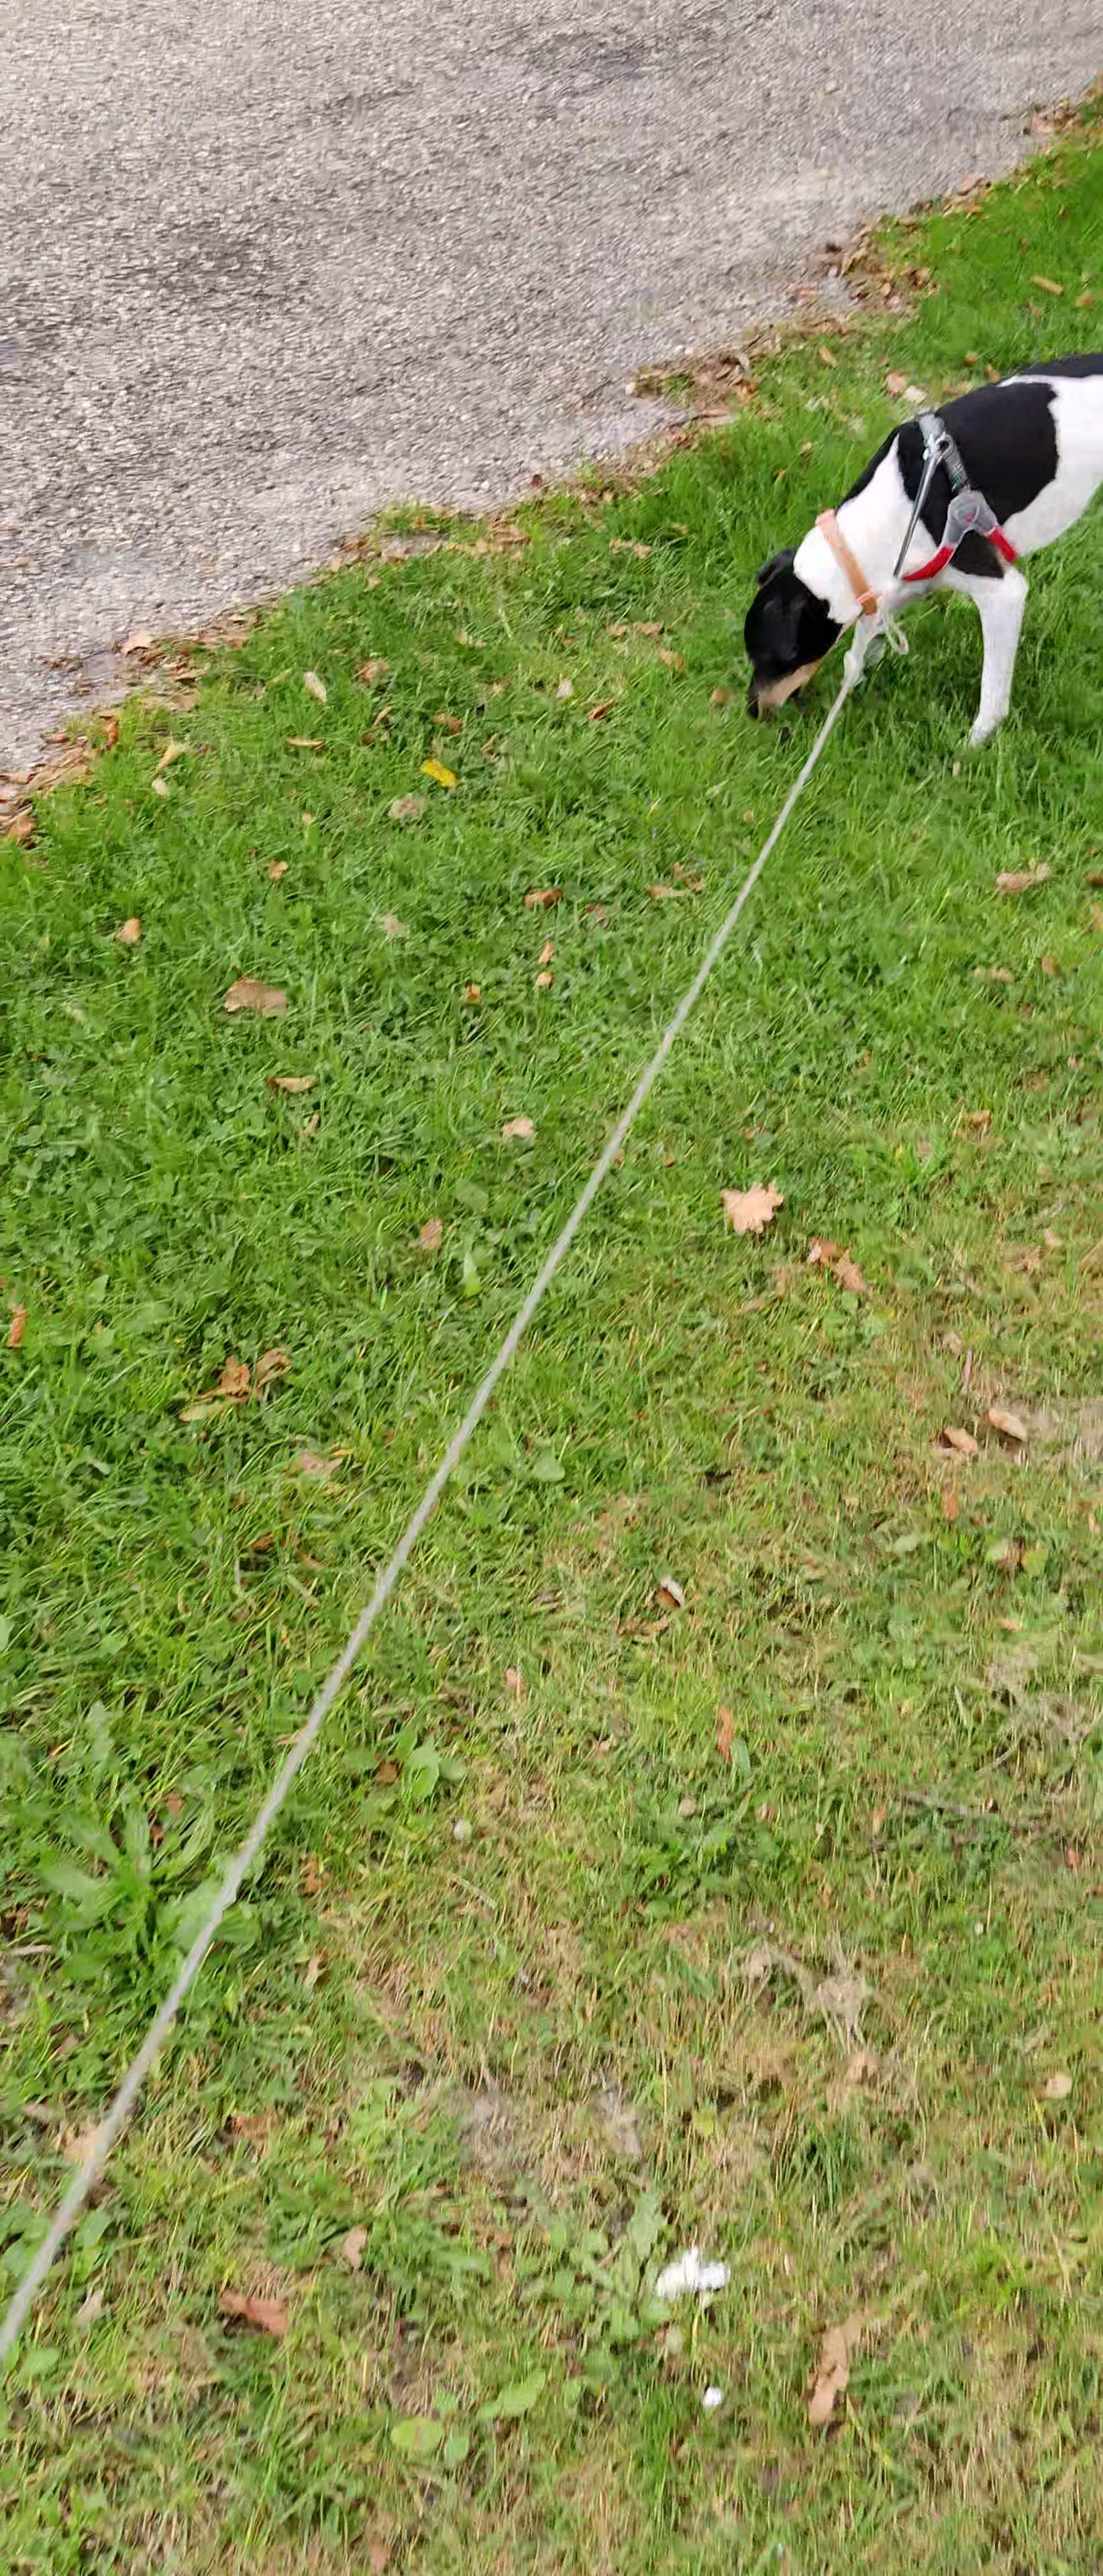Dog: (717, 337, 1103, 756)
